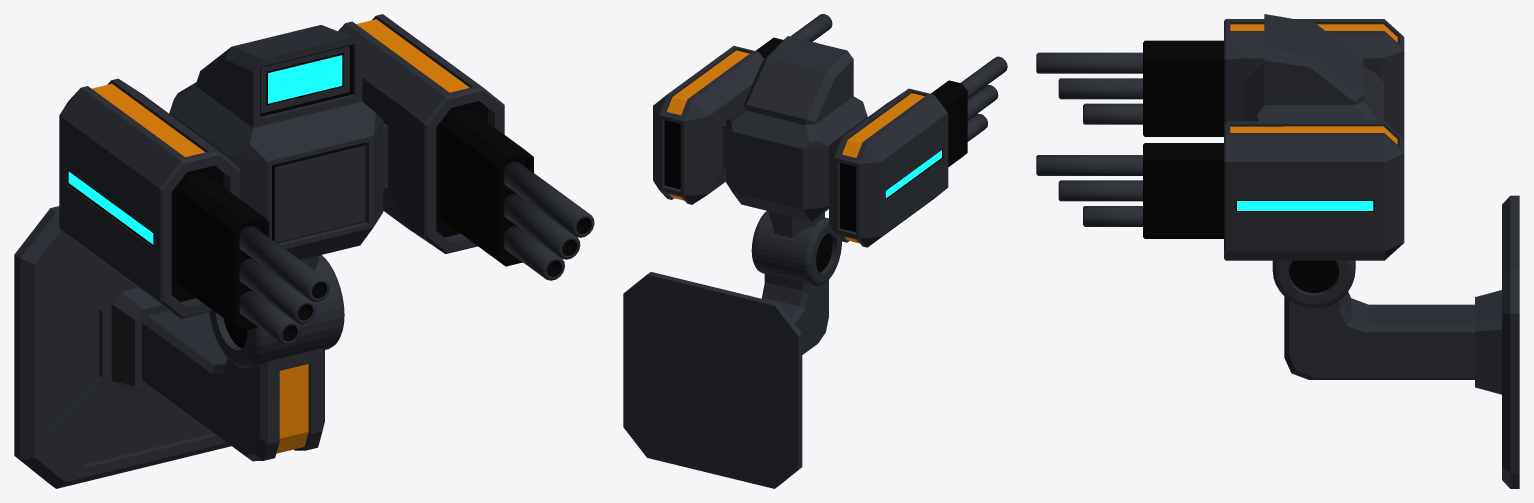
File: SM_Wall_Turret.fbx
3 renders of one model, left to right at view 1: azimuth 30°, elevation 25°; view 2: azimuth 150°, elevation 25°; view 3: azimuth 270°, elevation 25°, orthographic. The views are drawn at different scales.
Parts seen in each view (by area): view 1: SM_Wall_Turret_gun, SM_Wall_Turret_base; view 2: SM_Wall_Turret_gun, SM_Wall_Turret_base; view 3: SM_Wall_Turret_gun, SM_Wall_Turret_base.
Part boxes in pixels (<box>): SM_Wall_Turret_gun: <box>59,14,594,345</box>; SM_Wall_Turret_base: <box>14,206,344,488</box>; SM_Wall_Turret_gun: <box>653,14,1007,247</box>; SM_Wall_Turret_base: <box>623,211,841,488</box>; SM_Wall_Turret_gun: <box>1036,14,1404,260</box>; SM_Wall_Turret_base: <box>1272,195,1519,488</box>.
Bounding box in the file's own units: 67.16 × 98.79 × 103.
